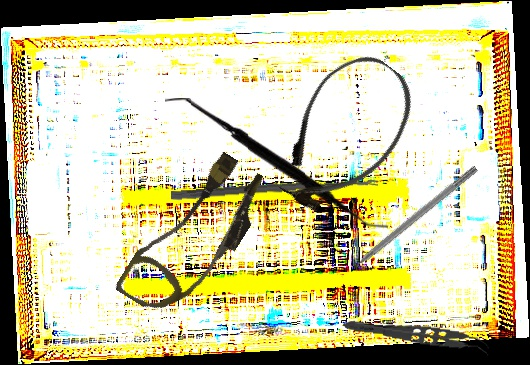Cannula: (254, 38, 433, 230), (113, 140, 277, 333)
Hook Surgical: (338, 163, 479, 281)
Spatula Surgical: (162, 98, 391, 230)
Surgical Spoon: (170, 176, 379, 202)
Tissue Forceps: (341, 317, 491, 357)
